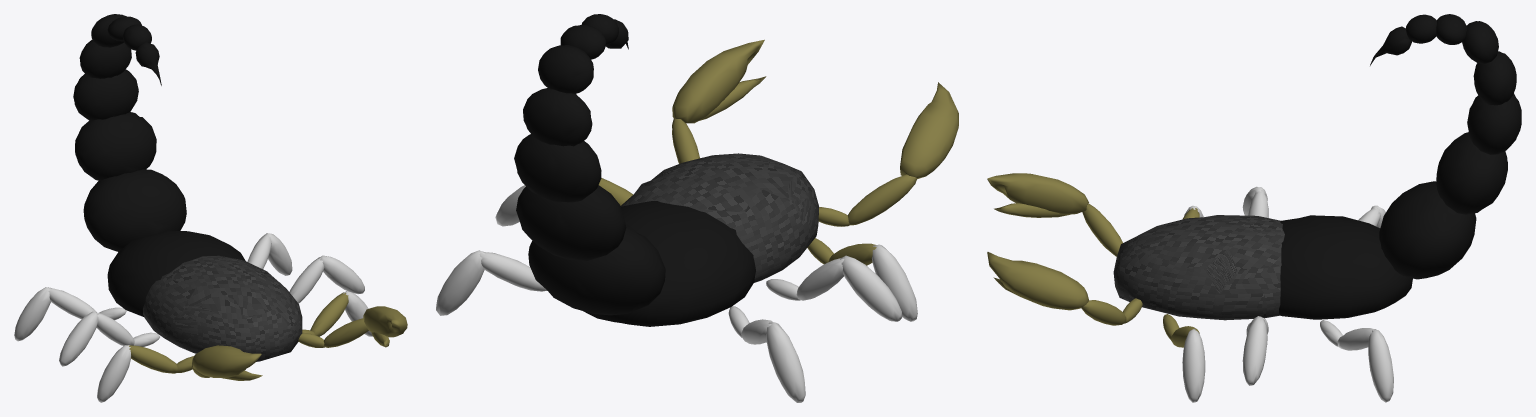
The model's file is scorpion_000002.obj.
3 renders of one model, left to right at view 1: azimuth 30°, elevation 25°; view 2: azimuth 150°, elevation 25°; view 3: azimuth 270°, elevation 25°, orthographic. The views are drawn at different scales.
Visible parts, largest first — view 1: Sphere.010_Sphere.012, Sphere.002_Sphere.004, Sphere.011_Sphere.013, Sphere.003_Sphere.005, Sphere.030_Sphere.000, Sphere.004_Sphere.006, Sphere.012_Sphere.020, Sphere.014_Sphere.023, Sphere.013_Sphere.017, Sphere.000_Sphere.019, Sphere.005_Sphere.007, Sphere.016_Sphere.022 (+7 smaller); view 2: Sphere.010_Sphere.012, Sphere.011_Sphere.013, Sphere.002_Sphere.004, Sphere.030_Sphere.000, Sphere.003_Sphere.005, Sphere.004_Sphere.006, Sphere.014_Sphere.023, Sphere.005_Sphere.007, Sphere.012_Sphere.020, Sphere.028_Sphere.046, Sphere.006_Sphere.008, Sphere.018_Sphere.025 (+8 smaller); view 3: Sphere.010_Sphere.012, Sphere.011_Sphere.013, Sphere.002_Sphere.004, Sphere.030_Sphere.000, Sphere.003_Sphere.005, Sphere.004_Sphere.006, Sphere.028_Sphere.046, Sphere.005_Sphere.007, Sphere.012_Sphere.020, Sphere.014_Sphere.023, Sphere.000_Sphere.019, Sphere.006_Sphere.008 (+6 smaller).
Part boxes in pixels (x1,y1,x2,y2): Sphere.010_Sphere.012: [143, 255, 302, 361]; Sphere.002_Sphere.004: [83, 169, 186, 251]; Sphere.011_Sphere.013: [107, 231, 245, 316]; Sphere.003_Sphere.005: [75, 112, 156, 180]; Sphere.030_Sphere.000: [192, 306, 407, 378]; Sphere.004_Sphere.006: [73, 69, 138, 120]; Sphere.012_Sphere.020: [59, 255, 364, 366]; Sphere.014_Sphere.023: [14, 233, 292, 341]; Sphere.013_Sphere.017: [127, 292, 348, 373]; Sphere.000_Sphere.019: [97, 291, 372, 402]; Sphere.005_Sphere.007: [79, 39, 131, 78]; Sphere.016_Sphere.022: [96, 257, 324, 345]; Sphere.010_Sphere.012: [620, 153, 819, 282]; Sphere.011_Sphere.013: [583, 201, 755, 326]; Sphere.002_Sphere.004: [528, 224, 665, 315]; Sphere.030_Sphere.000: [672, 39, 958, 179]; Sphere.003_Sphere.005: [516, 185, 626, 260]; Sphere.004_Sphere.006: [514, 134, 601, 202]; Sphere.014_Sphere.023: [436, 250, 805, 402]; Sphere.005_Sphere.007: [523, 88, 592, 146]; Sphere.012_Sphere.020: [495, 185, 902, 321]; Sphere.028_Sphere.046: [672, 118, 917, 225]; Sphere.006_Sphere.008: [538, 45, 593, 93]; Sphere.018_Sphere.025: [479, 252, 772, 344]; Sphere.010_Sphere.012: [1113, 215, 1284, 320]; Sphere.011_Sphere.013: [1279, 215, 1412, 319]; Sphere.002_Sphere.004: [1379, 181, 1476, 279]; Sphere.030_Sphere.000: [987, 173, 1088, 310]; Sphere.003_Sphere.005: [1436, 132, 1507, 214]; Sphere.004_Sphere.006: [1467, 93, 1521, 154]; Sphere.028_Sphere.046: [1081, 203, 1126, 325]; Sphere.005_Sphere.007: [1473, 51, 1516, 105]; Sphere.012_Sphere.020: [1242, 186, 1267, 385]; Sphere.014_Sphere.023: [1368, 205, 1393, 402]; Sphere.000_Sphere.019: [1182, 205, 1205, 402]; Sphere.006_Sphere.008: [1462, 21, 1498, 63].
Bounding box in the file's own units: 0.9675 × 0.8206 × 1.28.
